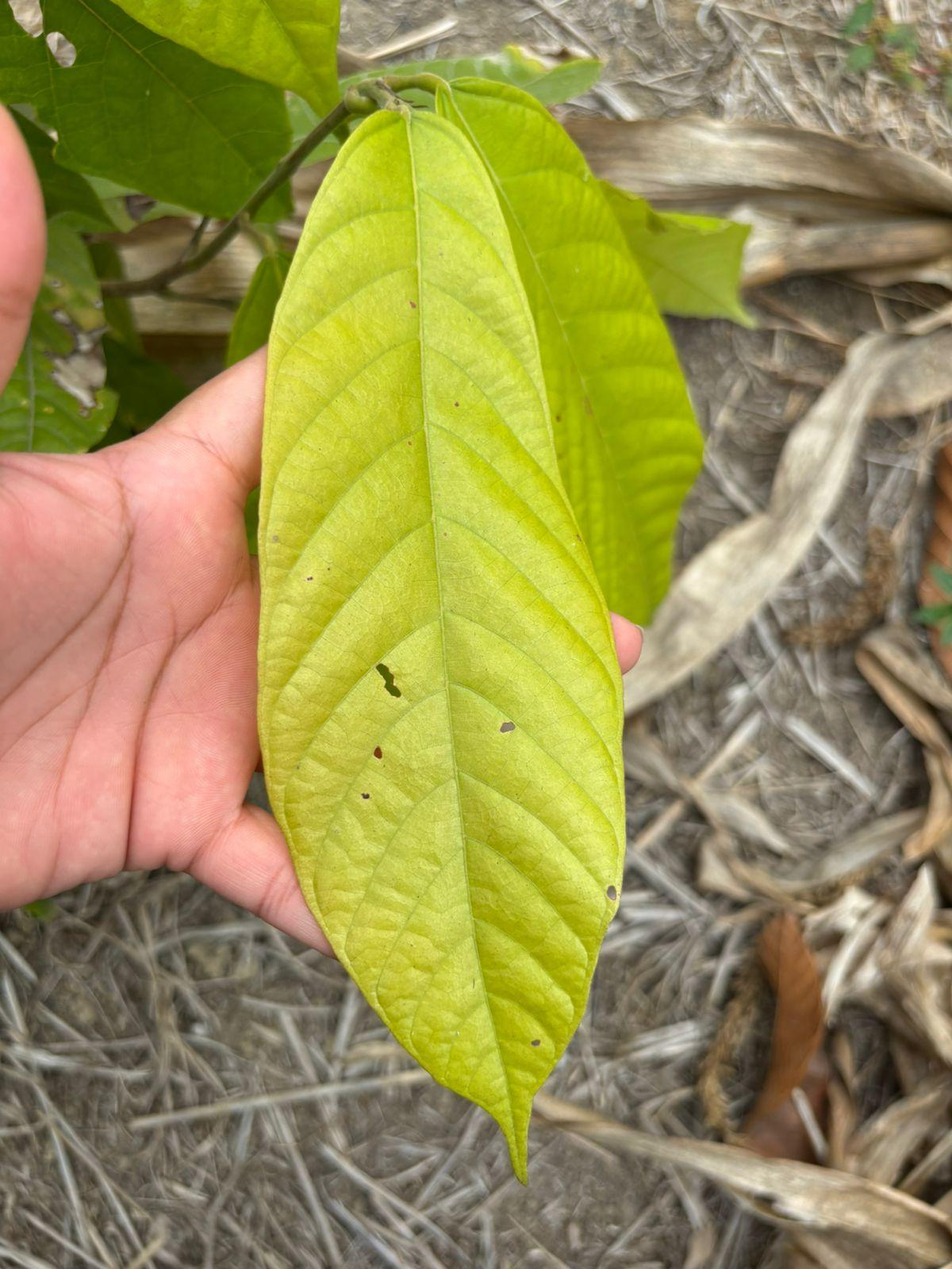deficiencia_nitrogeno: (258, 107, 624, 1178)
